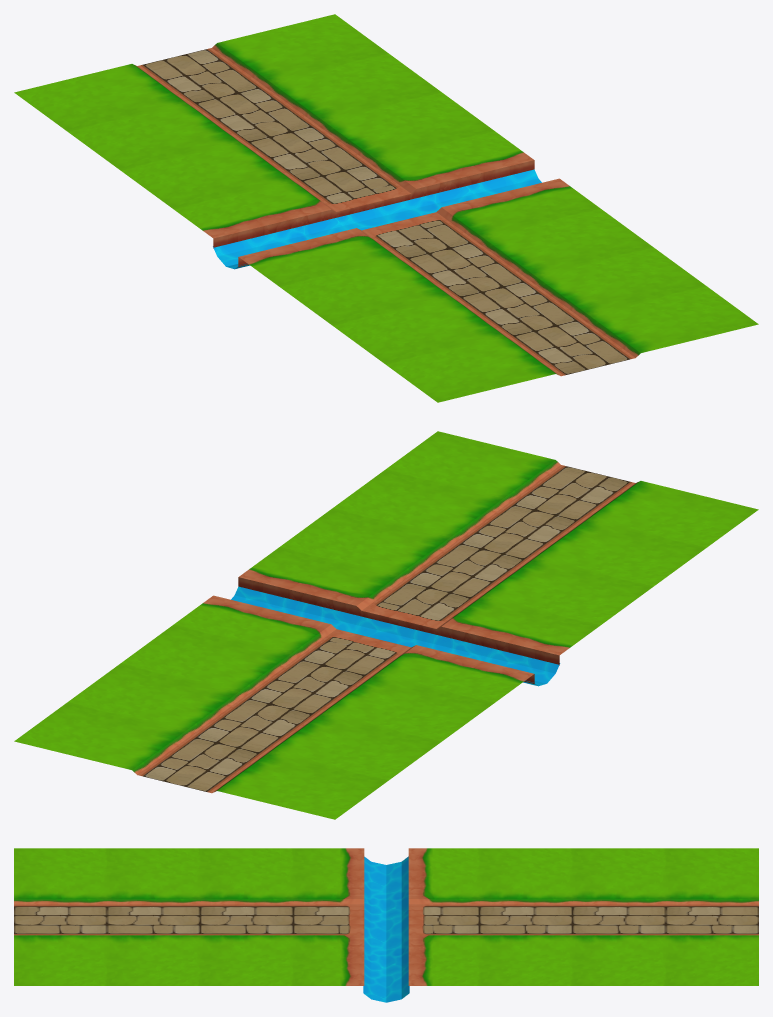
The model's file is paodao_02.FBX.
3 views of the same model, one above another, from view 1: azimuth 30°, elevation 25°; view 2: azimuth 150°, elevation 25°; view 3: azimuth 270°, elevation 25° (orthographic). The views are drawn at different scales.
Parts seen in each view (by area): view 1: paodao_02; view 2: paodao_02; view 3: paodao_02.
Part boxes in pixels (x1,y1,x2,y2): paodao_02: (14,14,758,402); paodao_02: (14,431,758,819); paodao_02: (14,848,758,1002).
Size of the model in its own units: 1400 by 3200 by 79.48.
